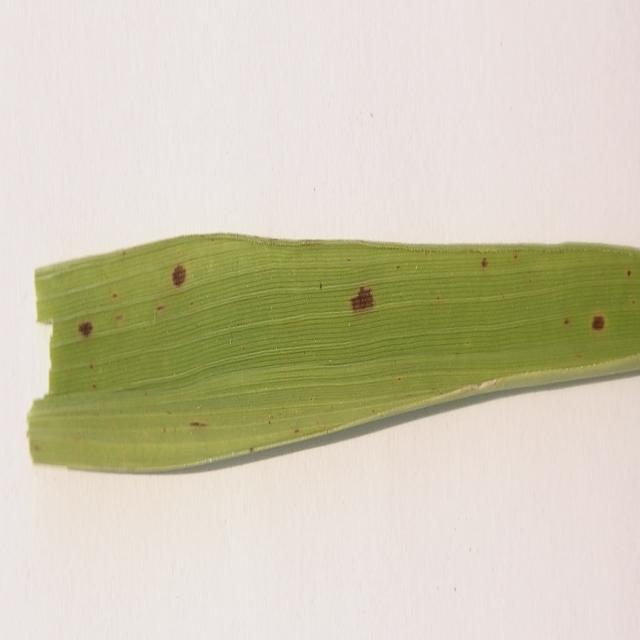brown spot: (163, 250, 196, 306), (345, 274, 379, 326), (71, 300, 98, 356), (587, 295, 611, 354), (182, 408, 213, 443)
